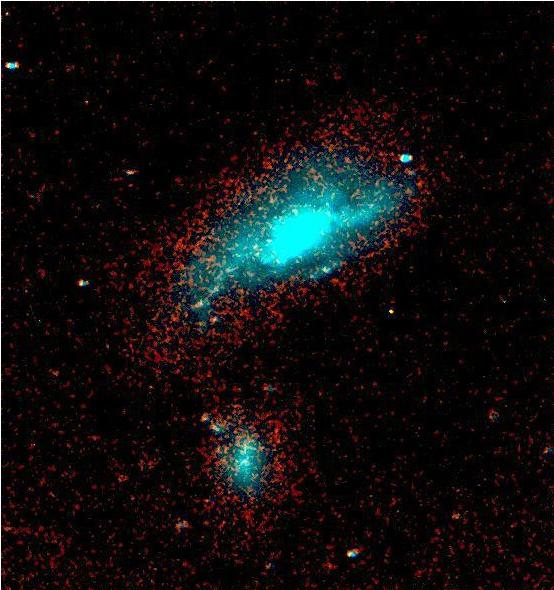star: (250, 188, 280, 218)
